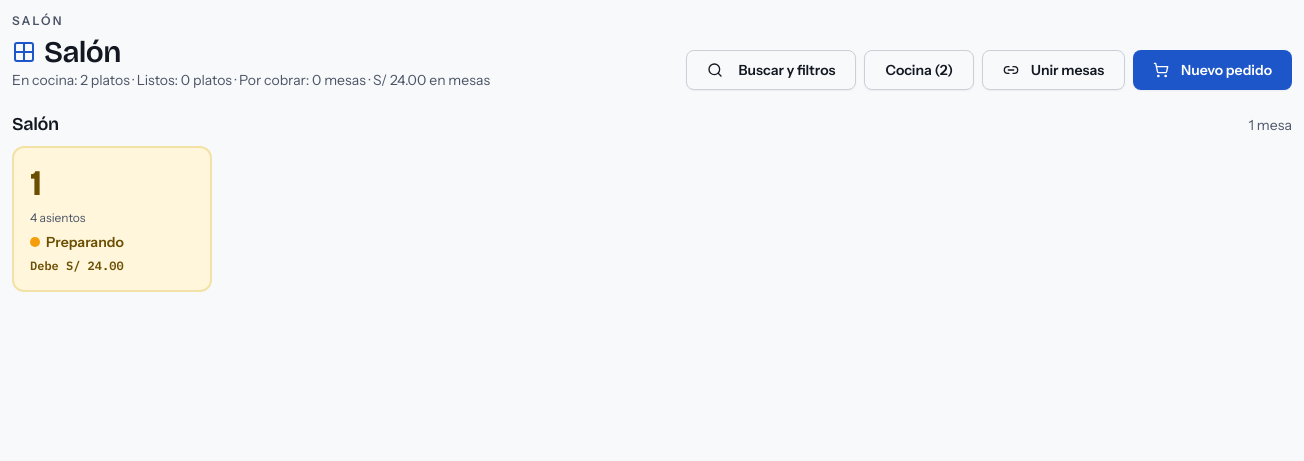
Test case: pedido por personas en el salón › deja fusionar al final, fuera del camino de carga
Step 1. Click the element with test id "mesa-card-1" → (112, 219), box [12,146,212,292]
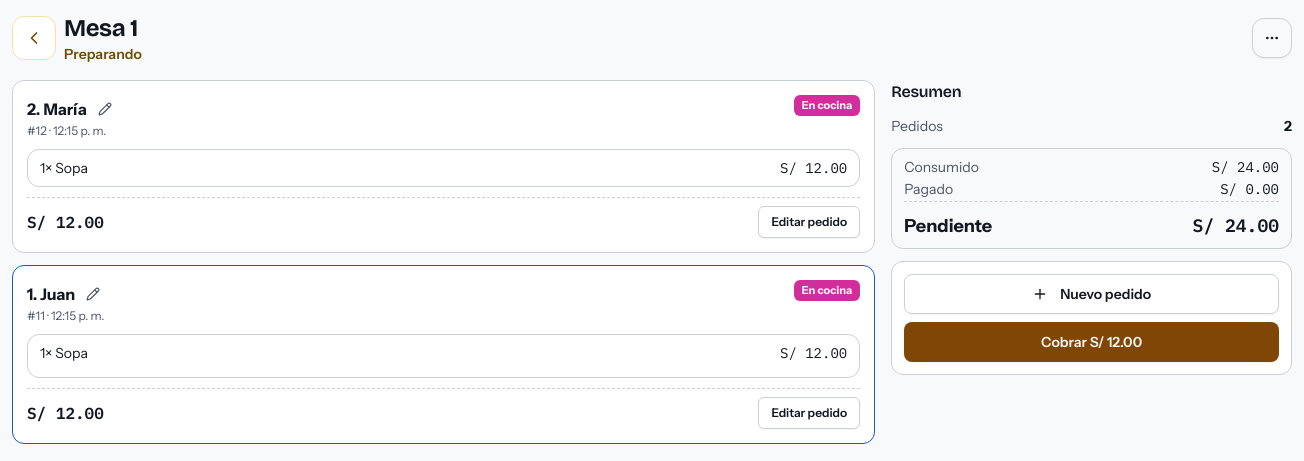
Step 2. Click the button with test id "mesa-sheet-mas" → (1272, 38), box [1252,18,1292,58]
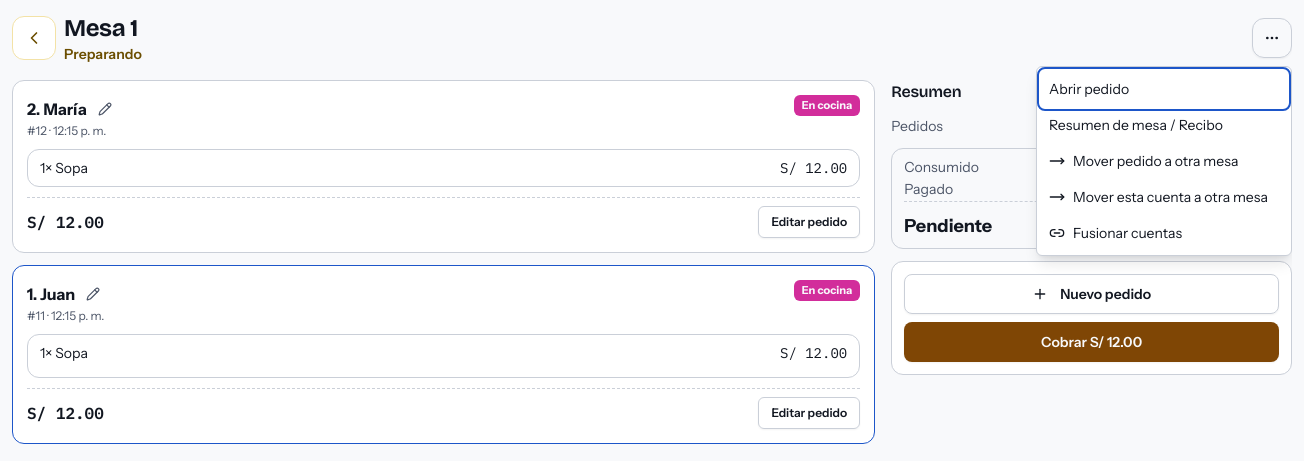
expect the menu item with test id "mesa-sheet-fusionar-cuentas" is shown: met, box [1041,215,1287,251]
